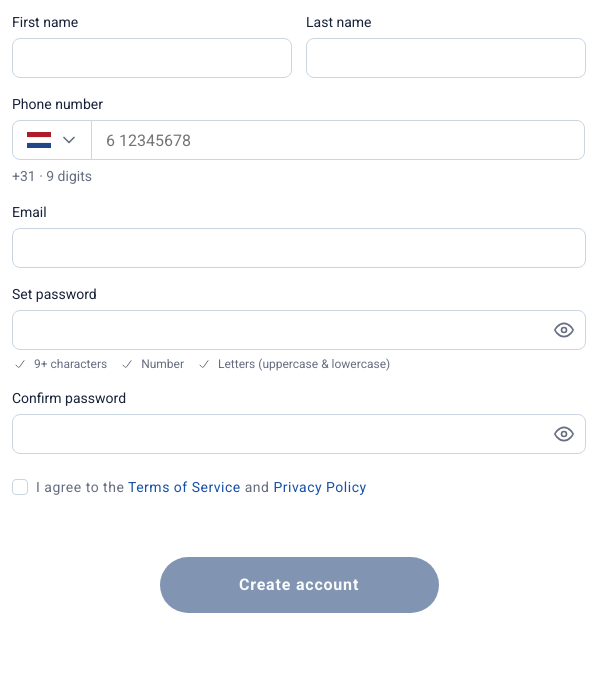
Scenario: SignUpForm › drops the terms error once the box is ticked
Step 1. Click the field labelled "Email" → (299, 248), box [12, 228, 586, 268]
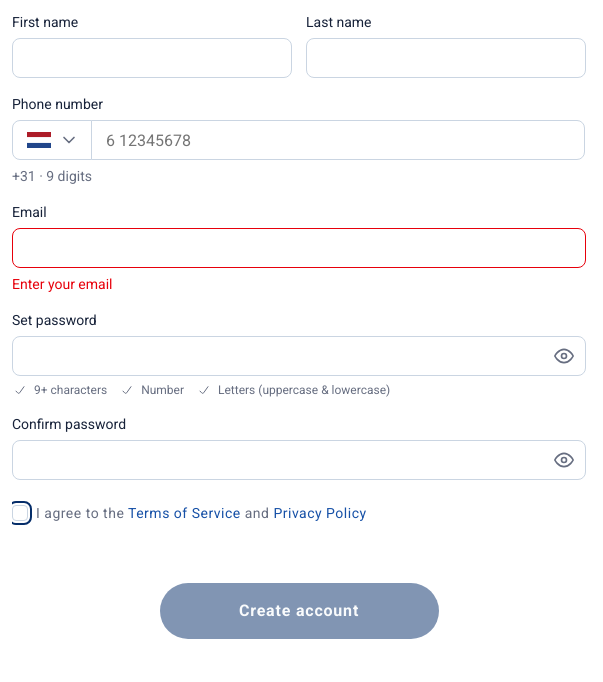
Step 2. Press Tab
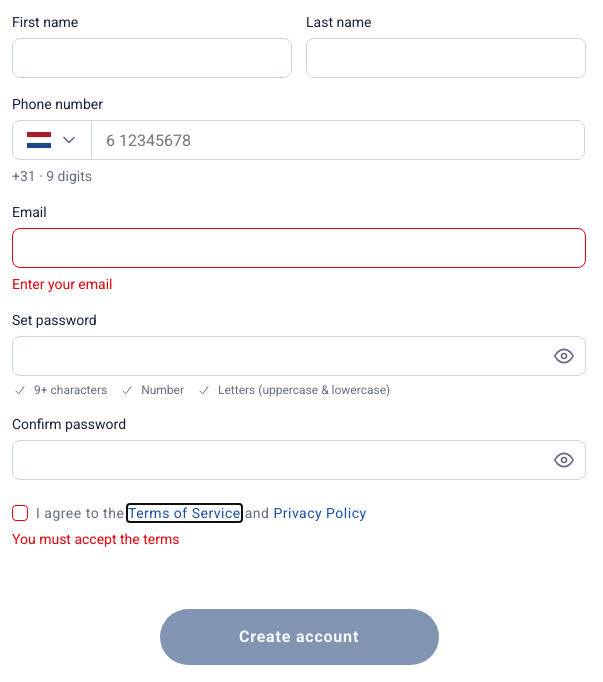
Expected: the text "You must accept the terms" is shown, [12, 531, 180, 547]
Step 3. Click the checkbox labelled "I agree to the Terms of Service and Privacy Policy" → (189, 513), box [12, 505, 367, 521]
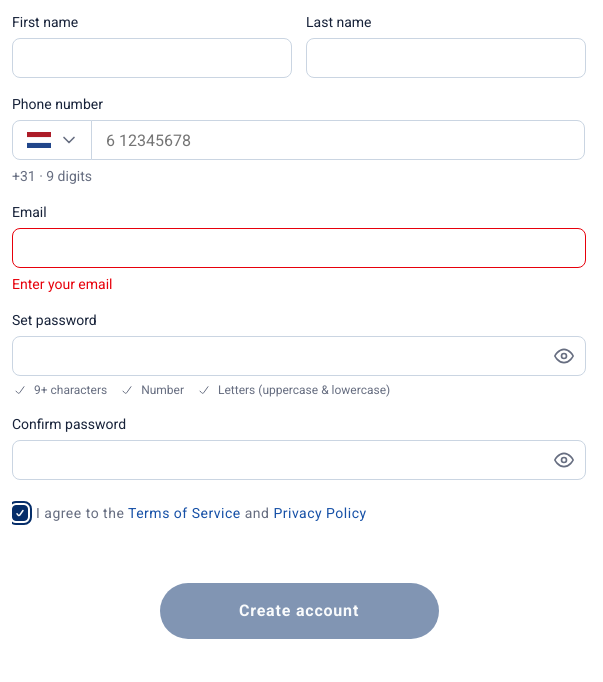
Expected: the text "You must accept the terms" is gone
